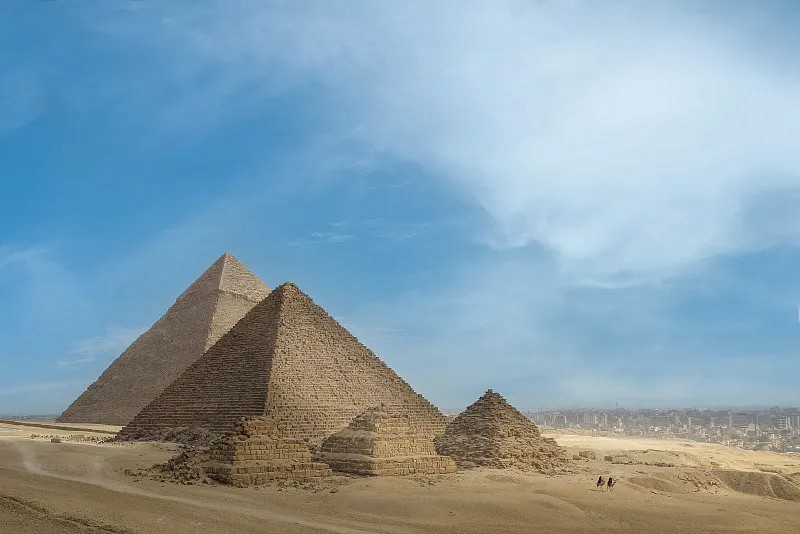Pyramid: (113, 282, 450, 442), (55, 252, 272, 426), (439, 389, 571, 469), (314, 401, 459, 473), (192, 415, 333, 488)
